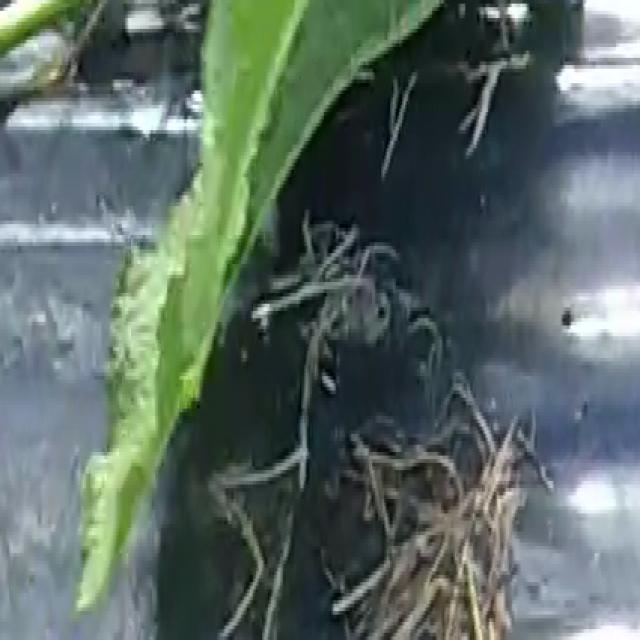organic waste: (78, 0, 559, 579)
